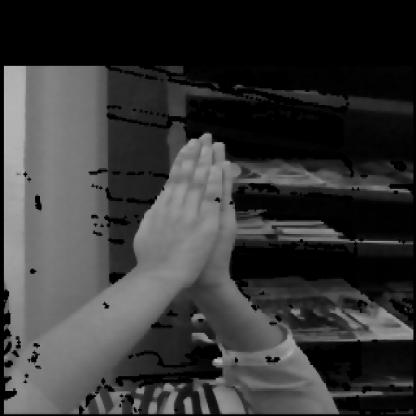namaste: (76, 121, 276, 319)
